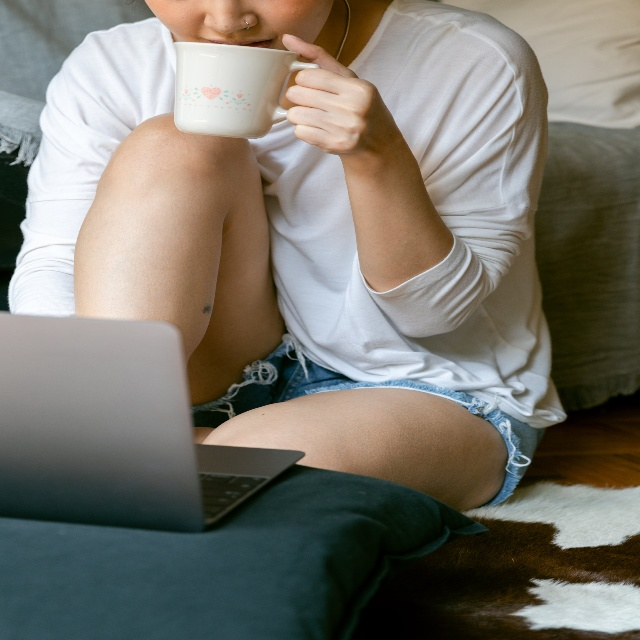Sin_guantes: (280, 25, 380, 158)
